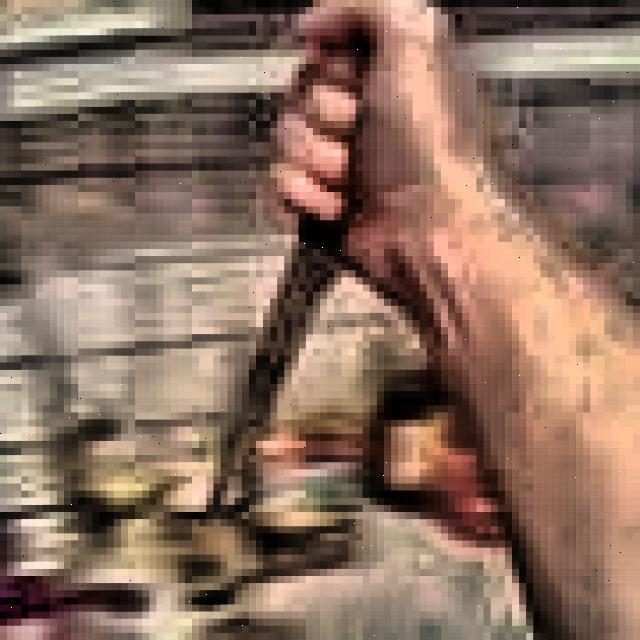knife: (206, 0, 448, 505)
